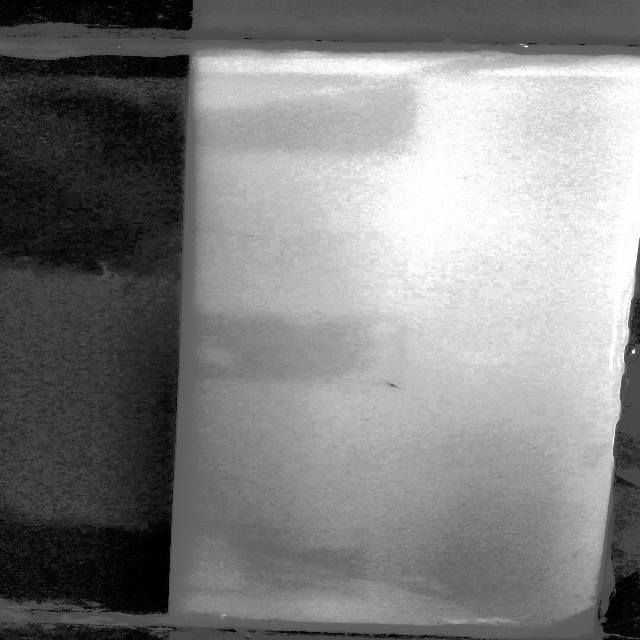shrimp: (381, 381, 401, 392)
